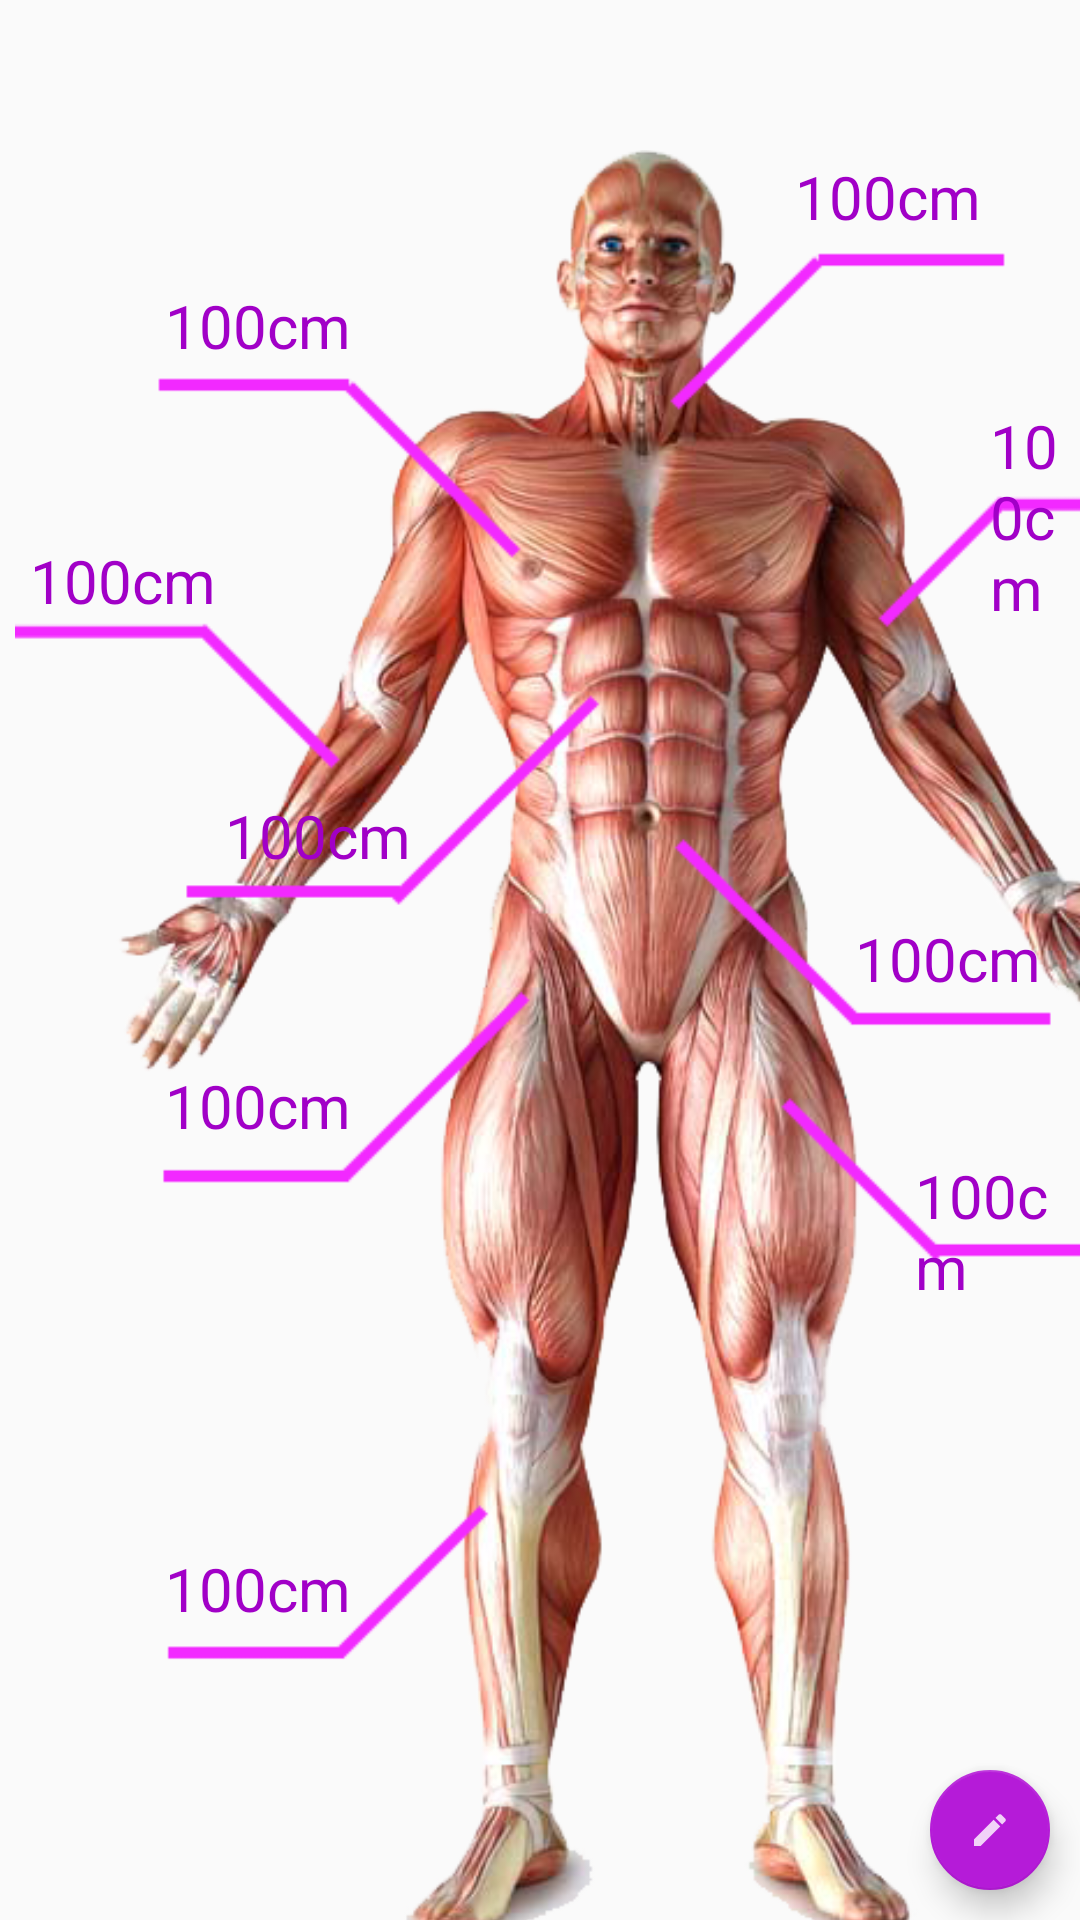

Icons on this 1080×1920 Android screen, each with its box as (x1, y1, x2, y2):
edit: (930, 1770, 1050, 1890)
